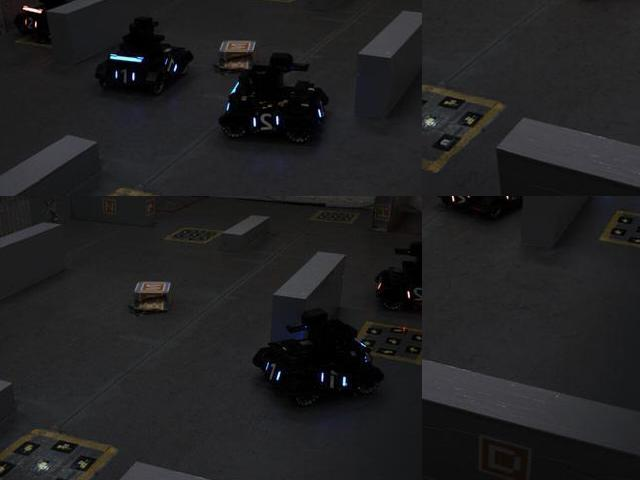armor: (314, 366, 358, 398), (250, 107, 285, 135), (108, 65, 138, 90), (263, 355, 284, 386), (163, 53, 182, 81), (19, 13, 39, 34), (447, 196, 476, 210), (405, 283, 421, 308), (499, 196, 527, 206)
